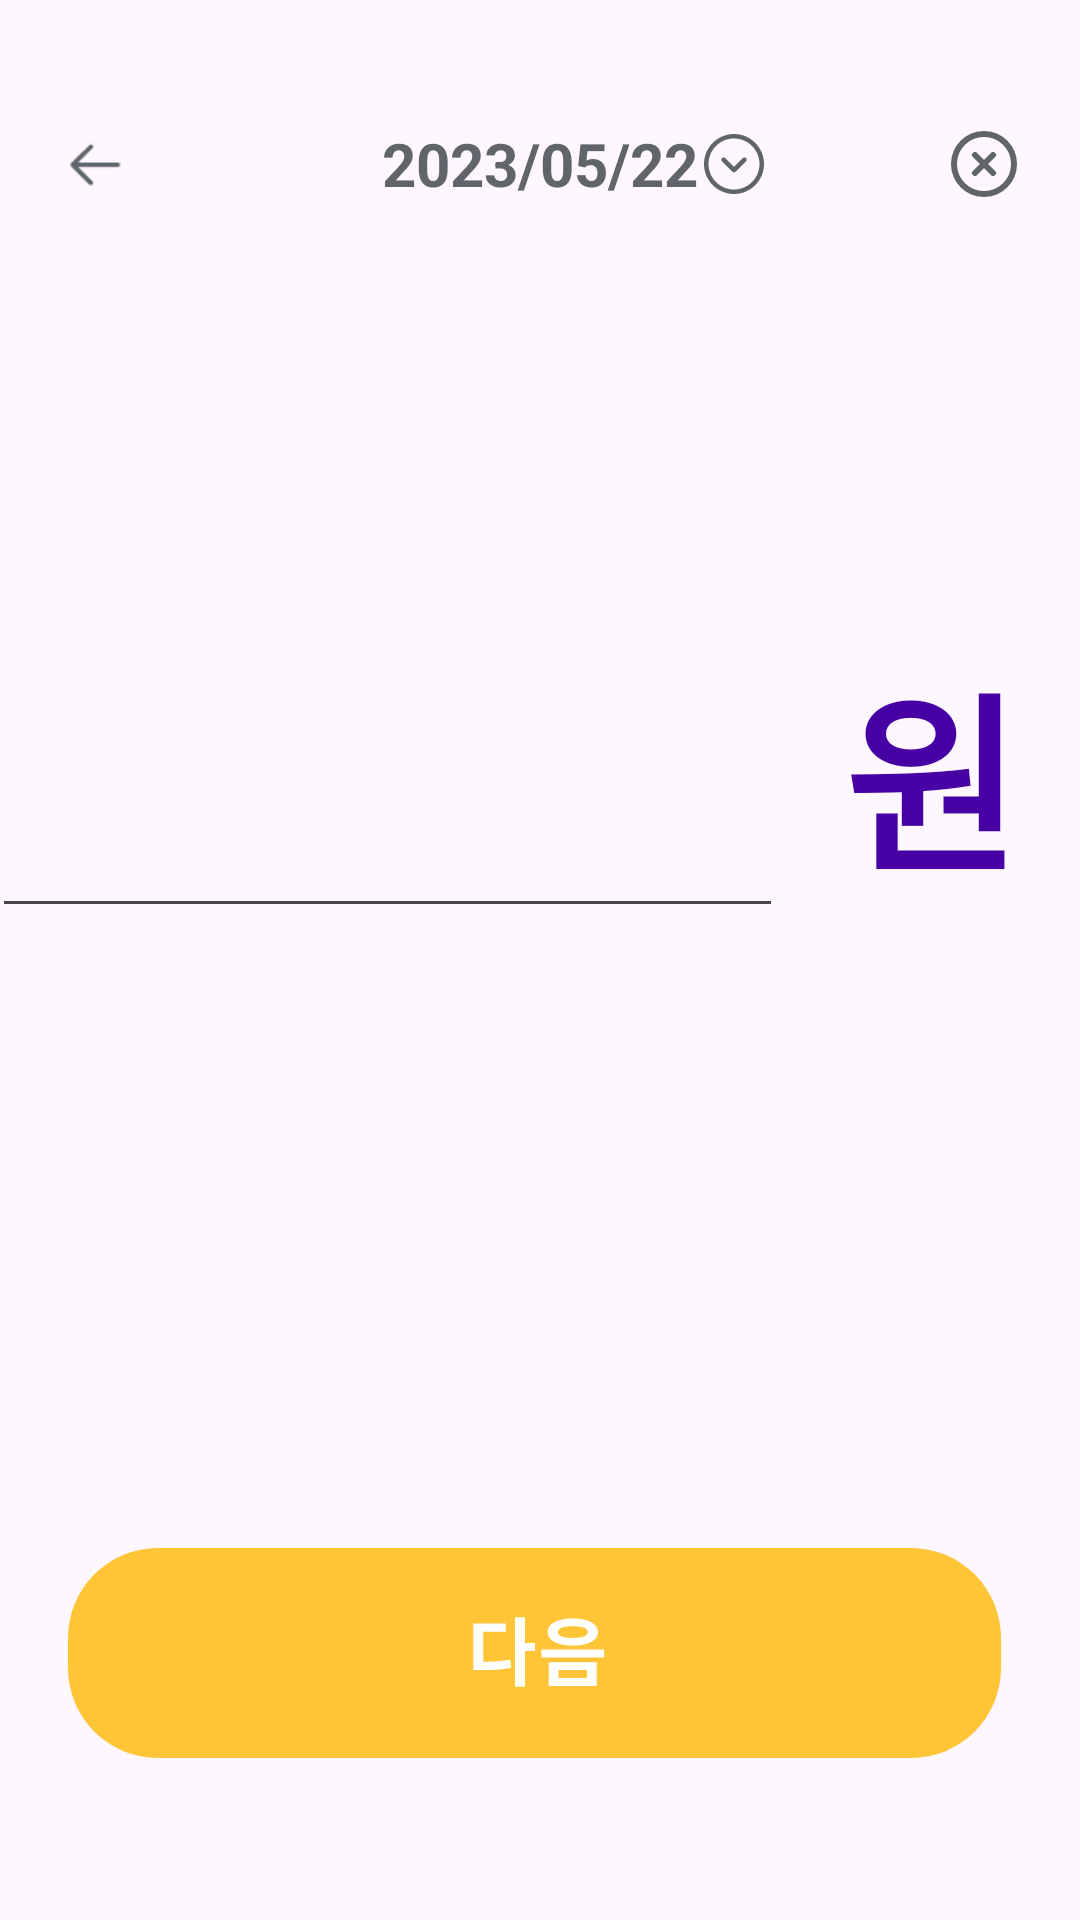

Point at icon controls on the screen. Image size 1080 × 1920, points as [x,y].
goback: [95,165]
incomeclose: [984,164]
